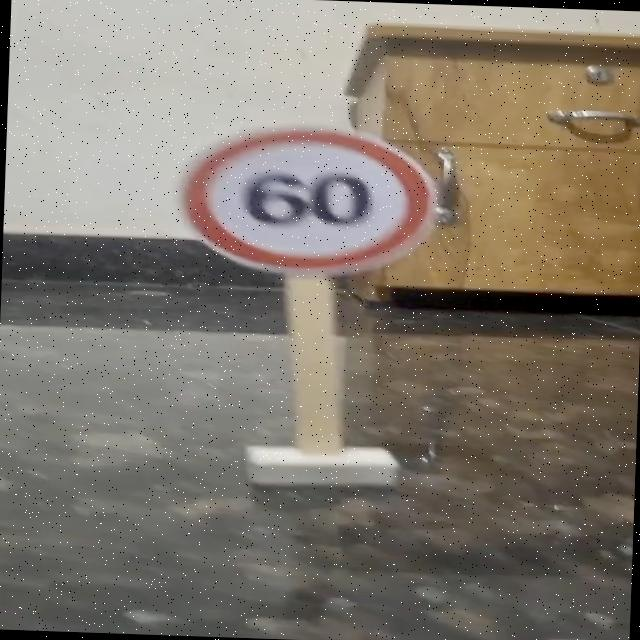Speed60: (156, 115, 458, 285)
